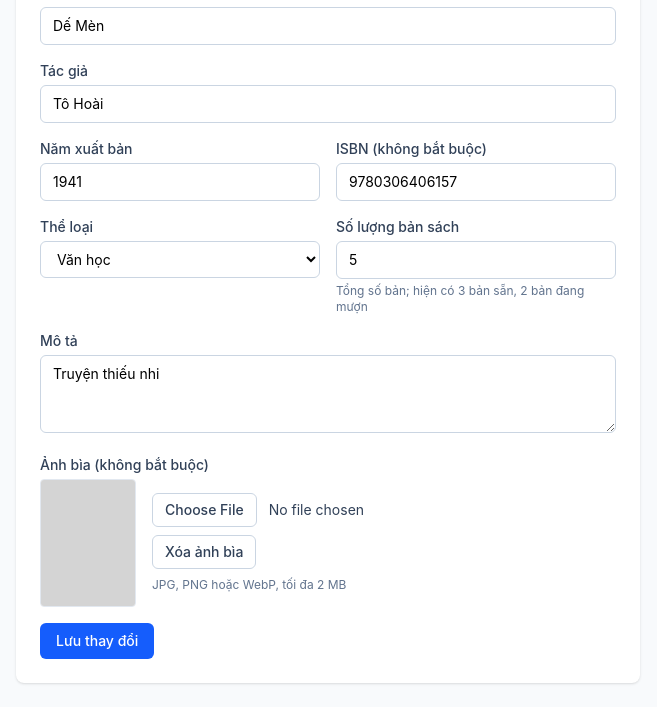
Scenario: EditBookPage (2.2.5) › ISBN trùng sách khác (409) → lỗi tại field ISBN
(page scrolled)
Click the button "Lưu thay đổi": click(97, 641) top-left (40, 623), bottom-right (154, 659)
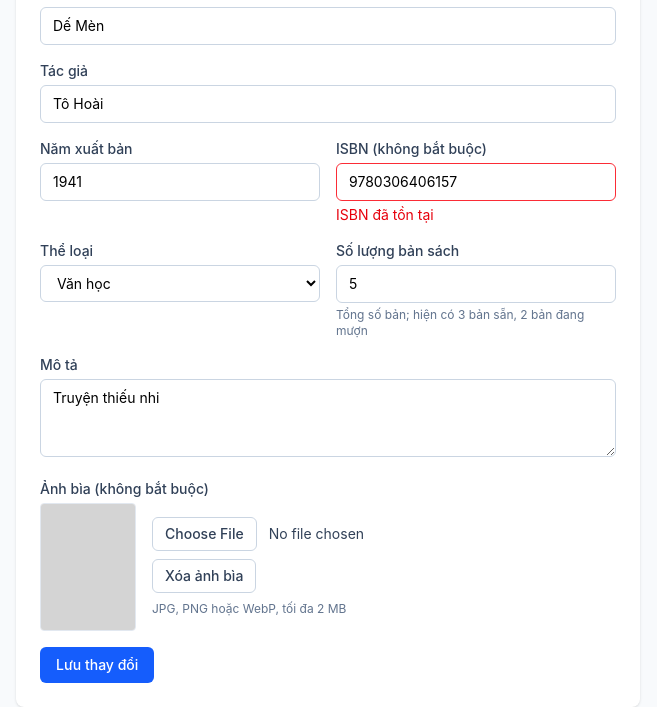
Now the text "ISBN đã tồn tại" is shown, box top-left (336, 206), bottom-right (434, 223)
